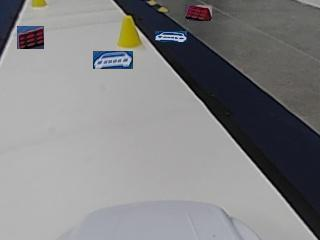cone: (117, 18, 142, 48)
